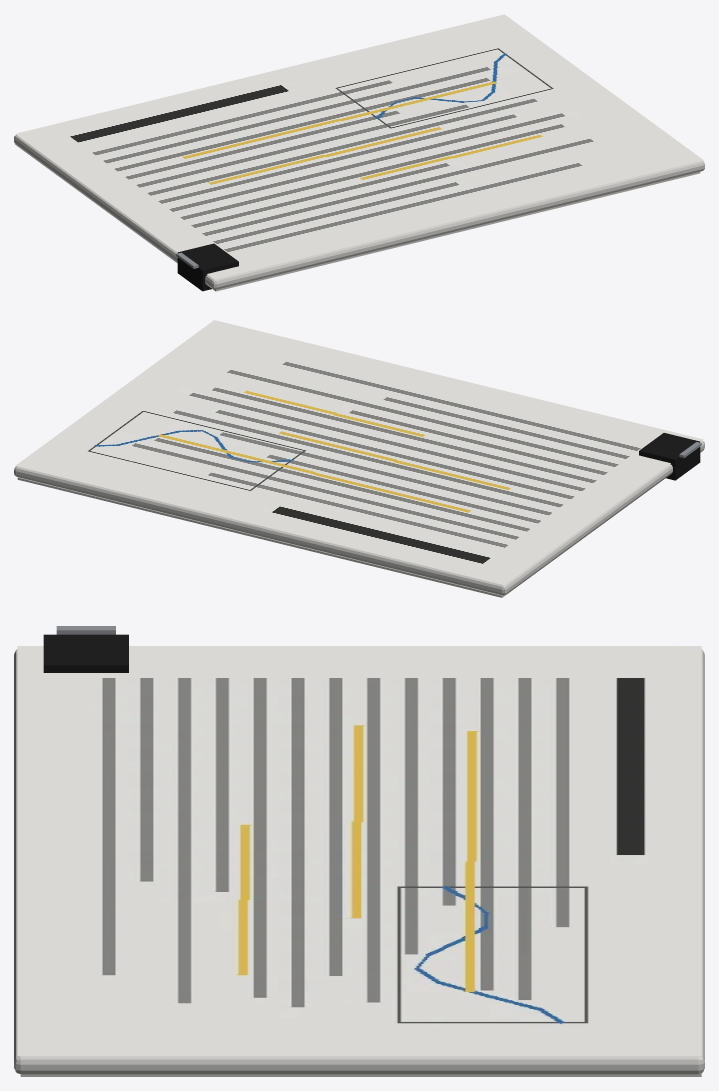
Rendered from handouts.glb.
The picture shows the model from 3 angles, top to bottom: view 1: azimuth 30°, elevation 25°; view 2: azimuth 150°, elevation 25°; view 3: azimuth 270°, elevation 25°; orthographic projection. The views are drawn at different scales.
Parts seen in each view (by area): view 1: handouts_print, handouts_vc; view 2: handouts_print, handouts_vc; view 3: handouts_print, handouts_vc.
Boxes of the visible parts, left/top/right/bottom form: handouts_print: left=15, top=14, right=703, bottom=279; handouts_vc: left=14, top=135, right=704, bottom=291; handouts_print: left=15, top=320, right=703, bottom=585; handouts_vc: left=14, top=433, right=704, bottom=597; handouts_print: left=17, top=646, right=701, bottom=1056; handouts_vc: left=14, top=626, right=704, bottom=1076.
Bounding box in the file's own units: 0.3015 × 0.0135 × 0.21.
Materials: 2 (1 with a texture image).
